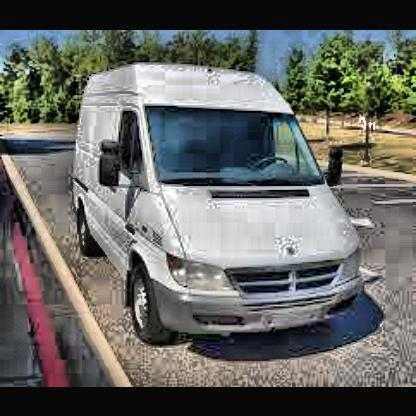Dodge Sprinter Cargo Van 2009: (68, 51, 372, 351)
